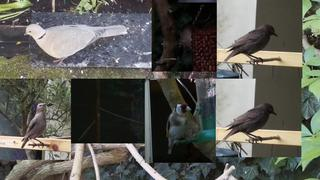collared dove: (24, 24, 128, 65)
goldfinch: (166, 103, 192, 155)
mouse: (179, 24, 193, 51)
starling: (223, 24, 278, 65), (222, 103, 277, 144), (21, 103, 47, 149)
